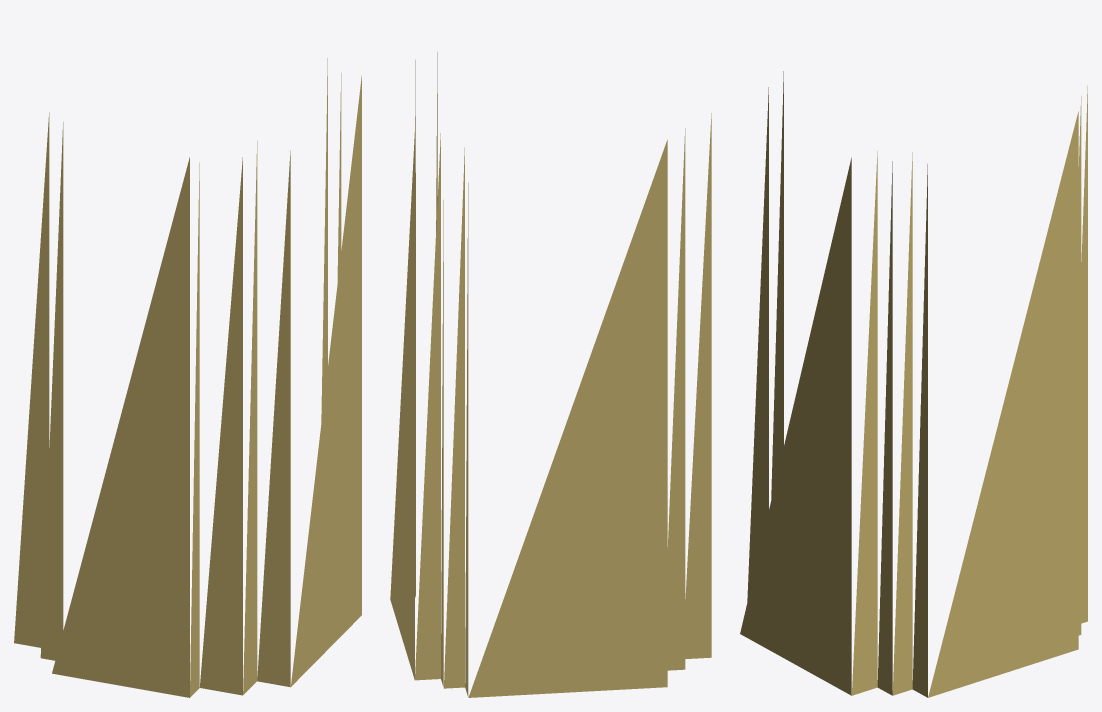
3 renders of one model, left to right at view 1: azimuth 30°, elevation 25°; view 2: azimuth 150°, elevation 25°; view 3: azimuth 270°, elevation 25°, orthographic.
Bounding box in the file's own units: 38.72 × 67.5 × 39.44.
